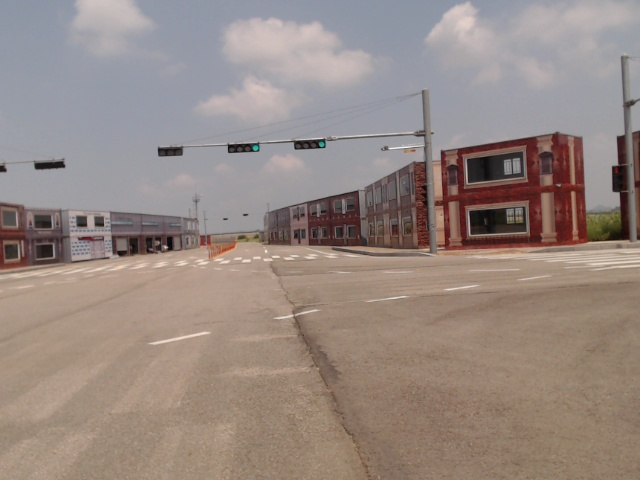straight_green_4: (227, 143, 259, 155), (295, 140, 324, 150)
